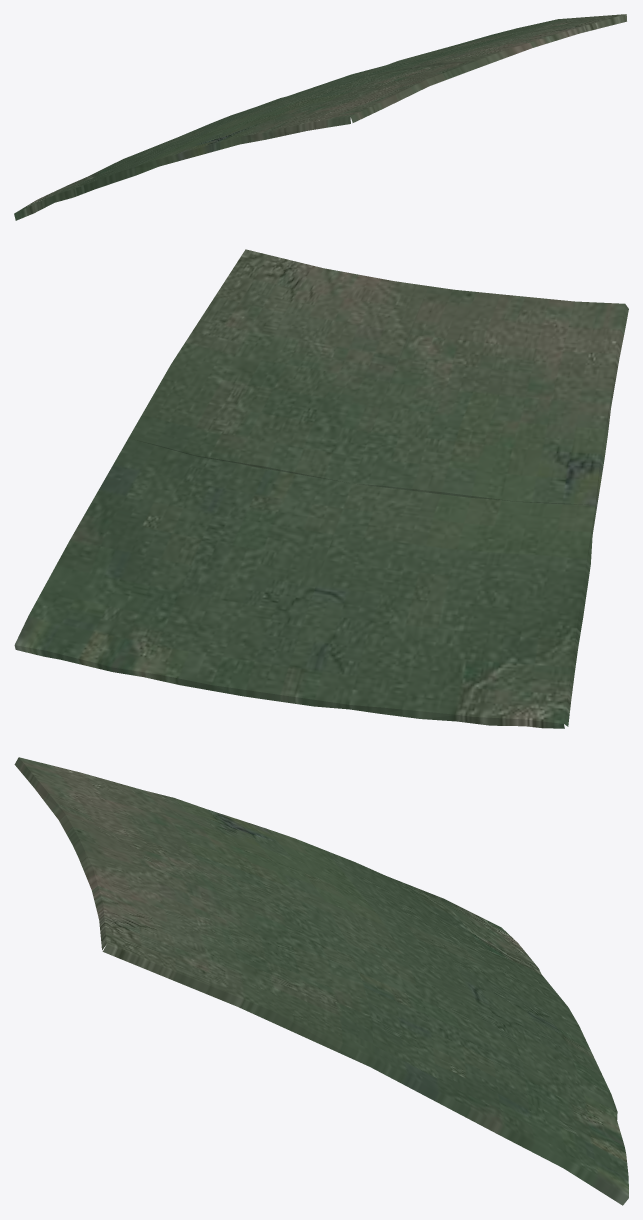
The picture shows the model from 3 angles, top to bottom: view 1: azimuth 30°, elevation 25°; view 2: azimuth 150°, elevation 25°; view 3: azimuth 270°, elevation 25°; orthographic projection. The views are drawn at different scales.
Bounding box in the file's own units: 1375675 × 616902 × 1307445.
Materials: 1 (1 with a texture image).
